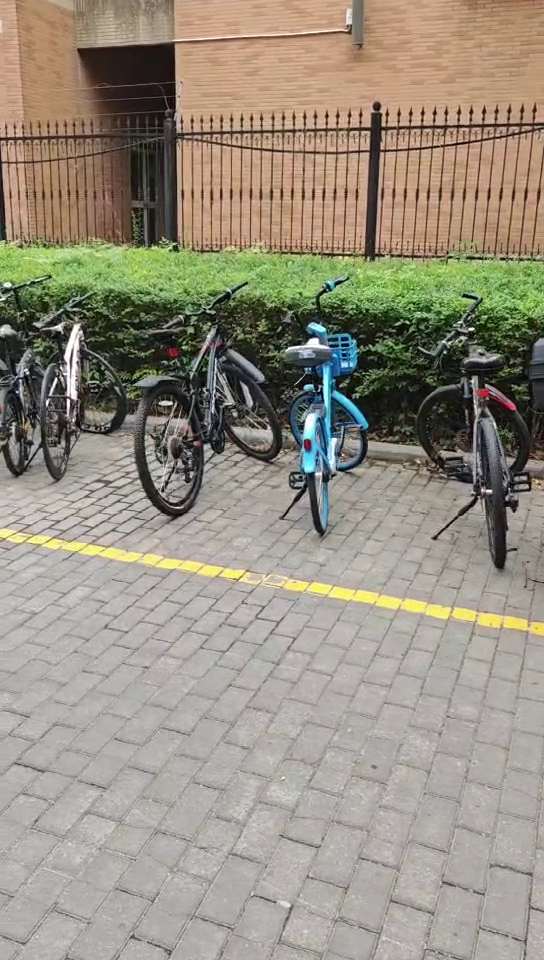others: (128, 272, 250, 535), (425, 312, 535, 566), (21, 292, 120, 451)
shared_bike_haluo: (270, 273, 400, 539)
